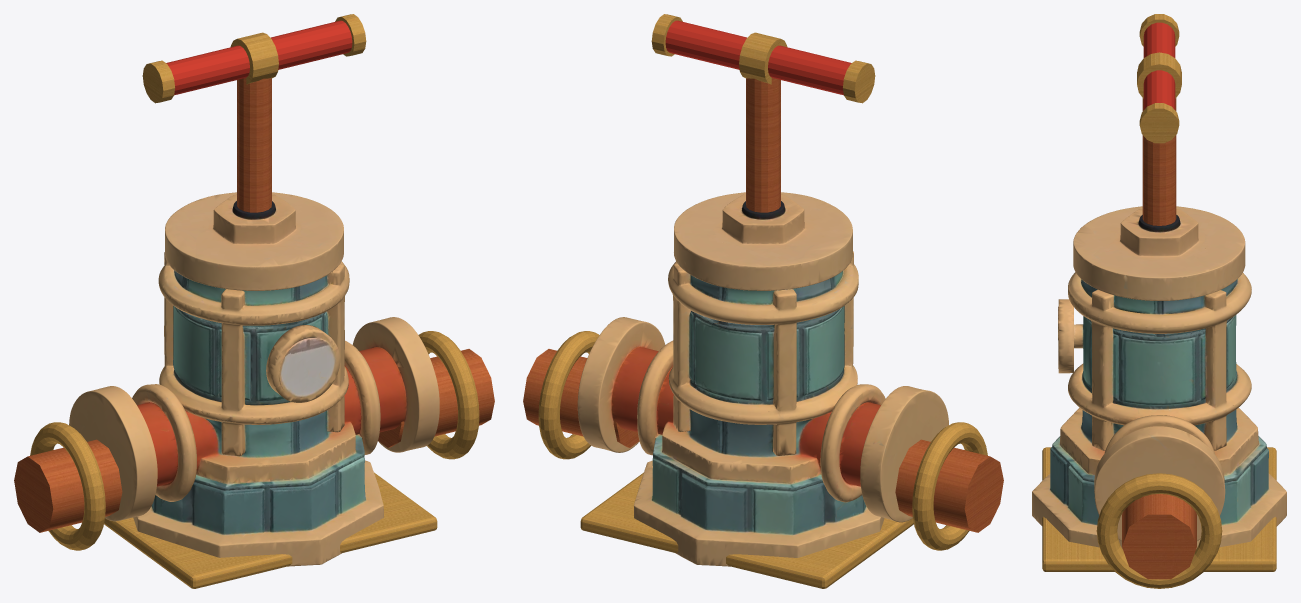
File: act2_pump_front.glb
3 renders of one model, left to right at view 1: azimuth 30°, elevation 25°; view 2: azimuth 150°, elevation 25°; view 3: azimuth 270°, elevation 25°, orthographic. The views are drawn at different scales.
Parts seen in each view (by area): view 1: RODIN_act2_wall_pump_rodin_Part, SM_Pump_front_Flanges, ANIM_Pump_Piston_Mesh; view 2: RODIN_act2_wall_pump_rodin_Part, SM_Pump_front_Flanges, ANIM_Pump_Piston_Mesh; view 3: RODIN_act2_wall_pump_rodin_Part, SM_Pump_front_Flanges, ANIM_Pump_Piston_Mesh.
Part boxes in pixels (<box>): RODIN_act2_wall_pump_rodin_Part: <box>69,192,439,566</box>; SM_Pump_front_Flanges: <box>14,331,494,588</box>; ANIM_Pump_Piston_Mesh: <box>142,14,366,212</box>; RODIN_act2_wall_pump_rodin_Part: <box>577,192,948,566</box>; SM_Pump_front_Flanges: <box>523,331,1003,588</box>; ANIM_Pump_Piston_Mesh: <box>651,14,875,212</box>; RODIN_act2_wall_pump_rodin_Part: <box>1032,206,1286,548</box>; SM_Pump_front_Flanges: <box>1042,447,1276,588</box>; ANIM_Pump_Piston_Mesh: <box>1137,14,1181,225</box>.
Size of the model in its own units: 1.04 by 1.08 by 0.5438.
Materials: 4 (3 with a texture image).
